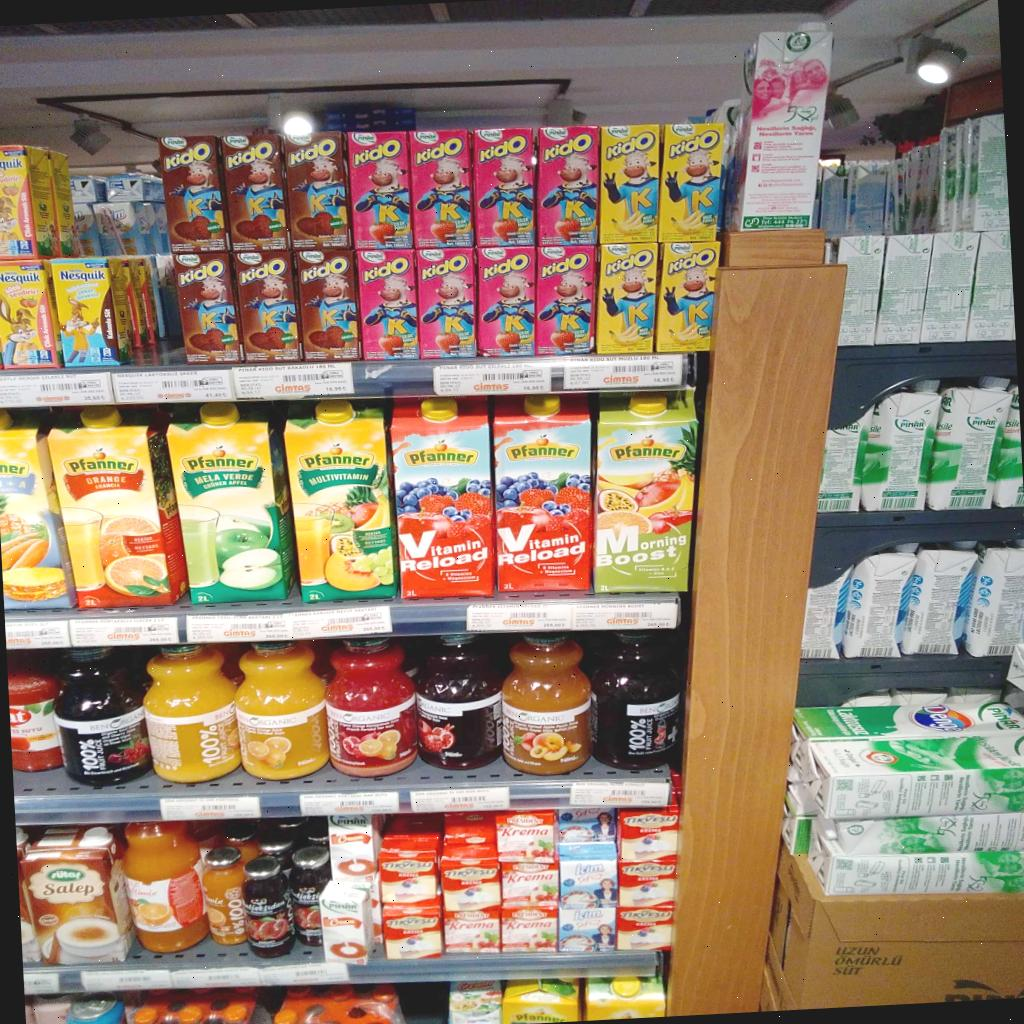price_tag: (562, 354, 687, 390), (232, 363, 354, 399), (113, 367, 234, 403), (0, 370, 114, 407), (434, 360, 551, 396), (571, 597, 679, 630), (288, 606, 392, 639), (69, 616, 179, 647), (466, 602, 572, 631), (186, 613, 291, 642), (617, 903, 674, 951), (570, 781, 670, 808), (411, 786, 509, 812), (300, 791, 399, 816), (161, 796, 260, 821), (81, 965, 172, 992), (171, 965, 260, 989), (260, 963, 349, 986), (5, 620, 70, 649), (24, 971, 59, 994)
product: (49, 406, 187, 607), (167, 402, 295, 603), (285, 400, 396, 602), (391, 399, 496, 599), (595, 390, 698, 591), (493, 396, 593, 592), (20, 827, 133, 964), (0, 410, 76, 609), (54, 649, 152, 787), (143, 647, 241, 783), (236, 643, 329, 780), (326, 641, 417, 777), (590, 634, 681, 769), (502, 636, 591, 774), (416, 634, 501, 770), (125, 821, 209, 952), (52, 258, 129, 366), (159, 136, 229, 254), (221, 131, 289, 252), (347, 132, 414, 250), (284, 132, 351, 249), (409, 130, 474, 249), (233, 251, 302, 362), (174, 253, 243, 363), (536, 126, 599, 245), (472, 128, 535, 246), (660, 125, 723, 242), (598, 125, 660, 243), (296, 251, 362, 361), (655, 243, 720, 352), (596, 243, 658, 354), (0, 145, 60, 259), (356, 250, 418, 360), (416, 247, 477, 358), (534, 246, 596, 354), (476, 246, 536, 357), (0, 260, 62, 366), (8, 671, 63, 771), (244, 856, 294, 957), (379, 829, 441, 904), (320, 881, 373, 966), (441, 836, 501, 911), (203, 846, 247, 945), (290, 846, 331, 945), (382, 899, 443, 959), (328, 814, 381, 881), (617, 804, 679, 861), (496, 809, 555, 862), (500, 858, 559, 908), (501, 901, 557, 953), (559, 857, 616, 908), (618, 861, 675, 908), (558, 906, 616, 952), (444, 906, 500, 953)
